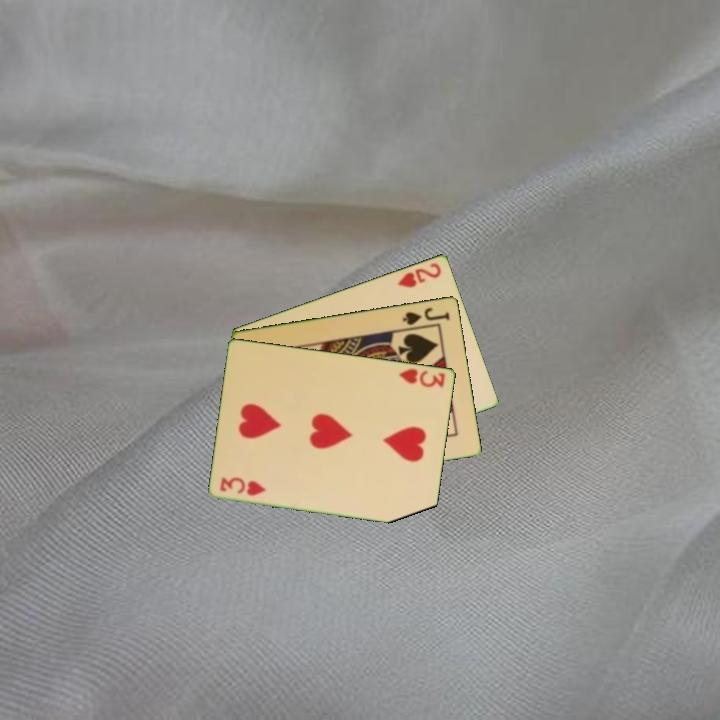2h: (393, 259, 444, 290)
3h: (396, 364, 448, 390), (217, 474, 269, 498)
Js: (399, 304, 453, 328)
